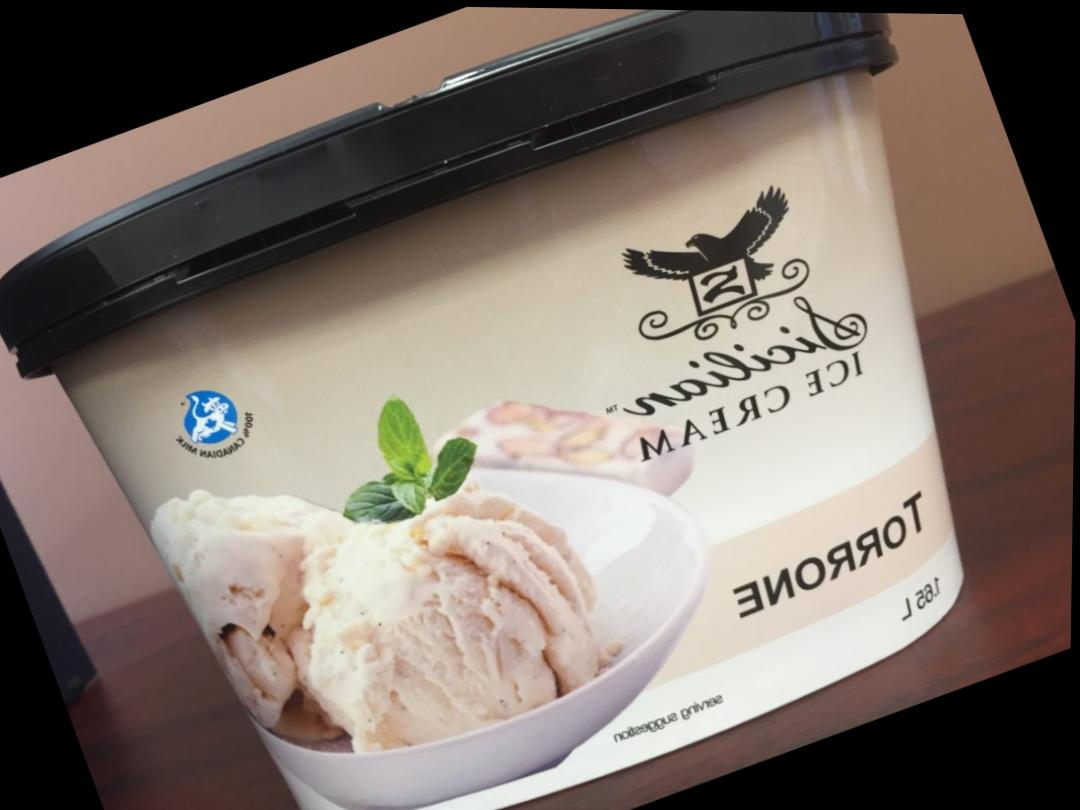plastic: (0, 10, 1072, 809)
